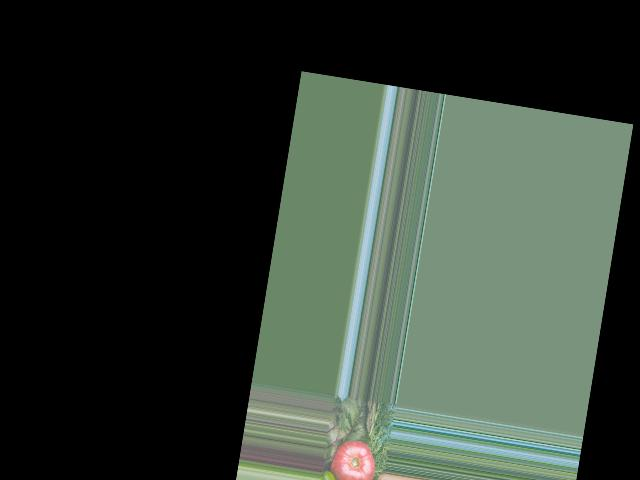tomato: (326, 437, 378, 480)
